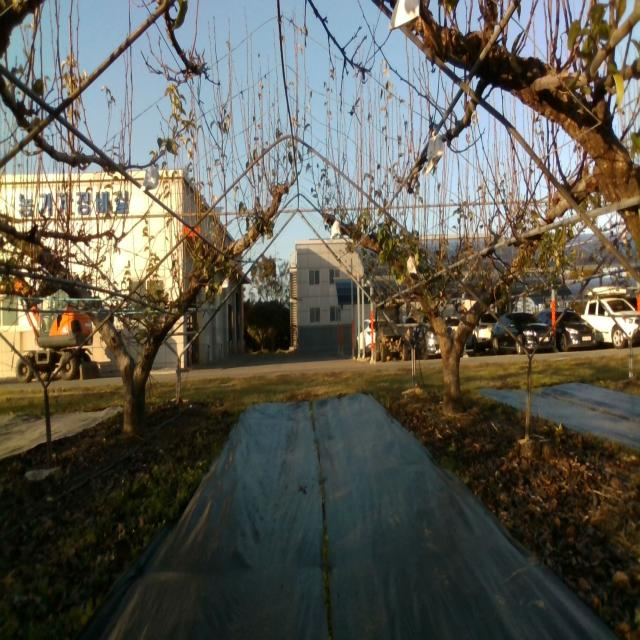pearbags: (389, 0, 420, 32), (426, 136, 444, 176), (140, 163, 160, 191), (330, 220, 342, 241)
